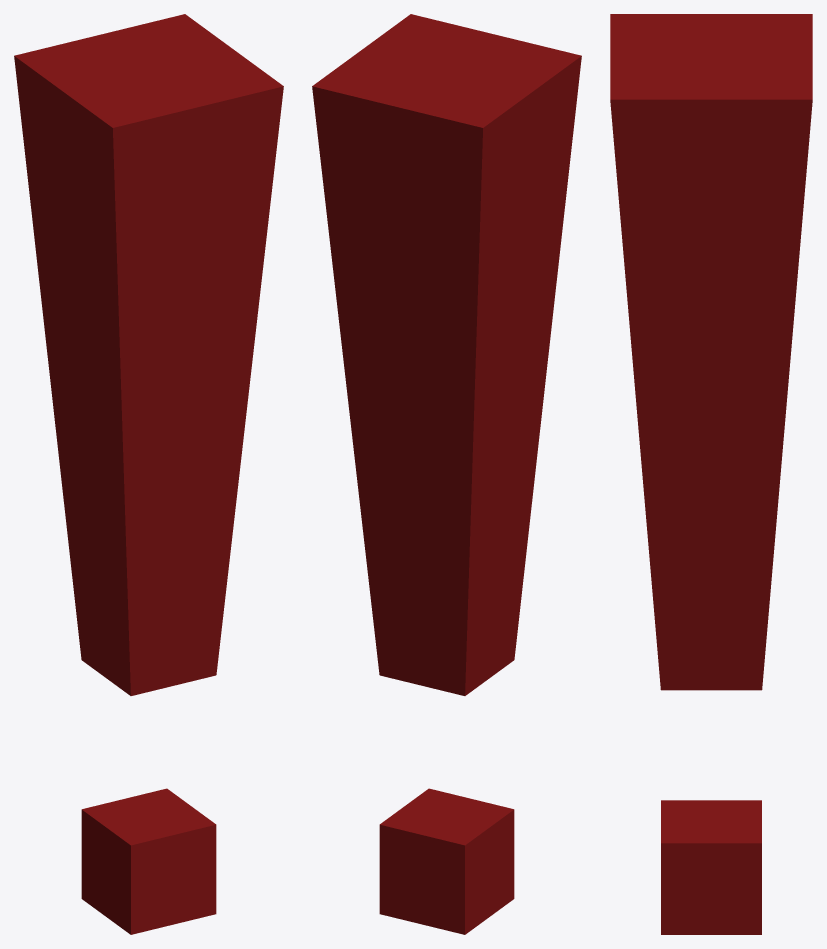
The model's file is Danger.fbx.
3 renders of one model, left to right at view 1: azimuth 30°, elevation 25°; view 2: azimuth 150°, elevation 25°; view 3: azimuth 270°, elevation 25°, orthographic. The views are drawn at different scales.
Visible parts, largest first — view 1: Danger; view 2: Danger; view 3: Danger.
Part boxes in pixels (<box>): Danger: <box>14,14,283,934</box>; Danger: <box>312,14,581,934</box>; Danger: <box>610,14,812,934</box>.
Size of the model in its own units: 46.8 by 218 by 46.8.
